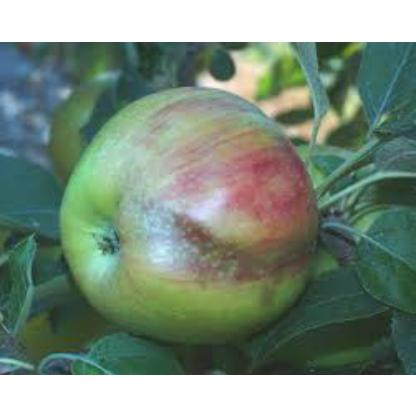apple: (66, 90, 324, 330)
